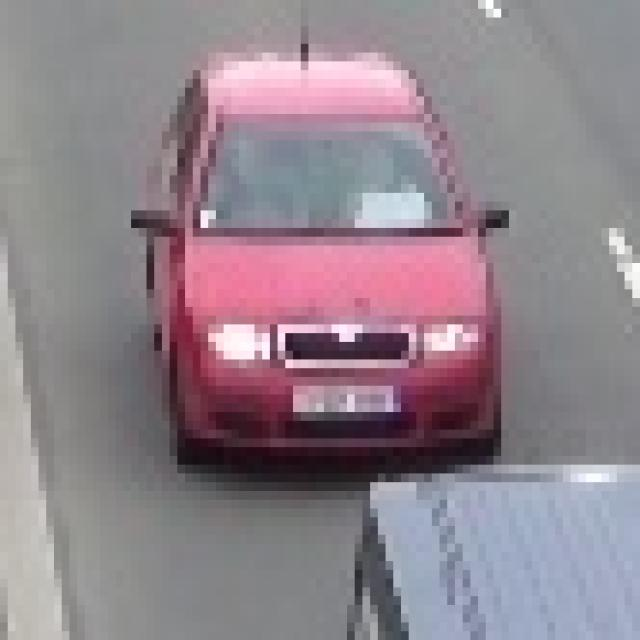maroon: (147, 56, 500, 455)
